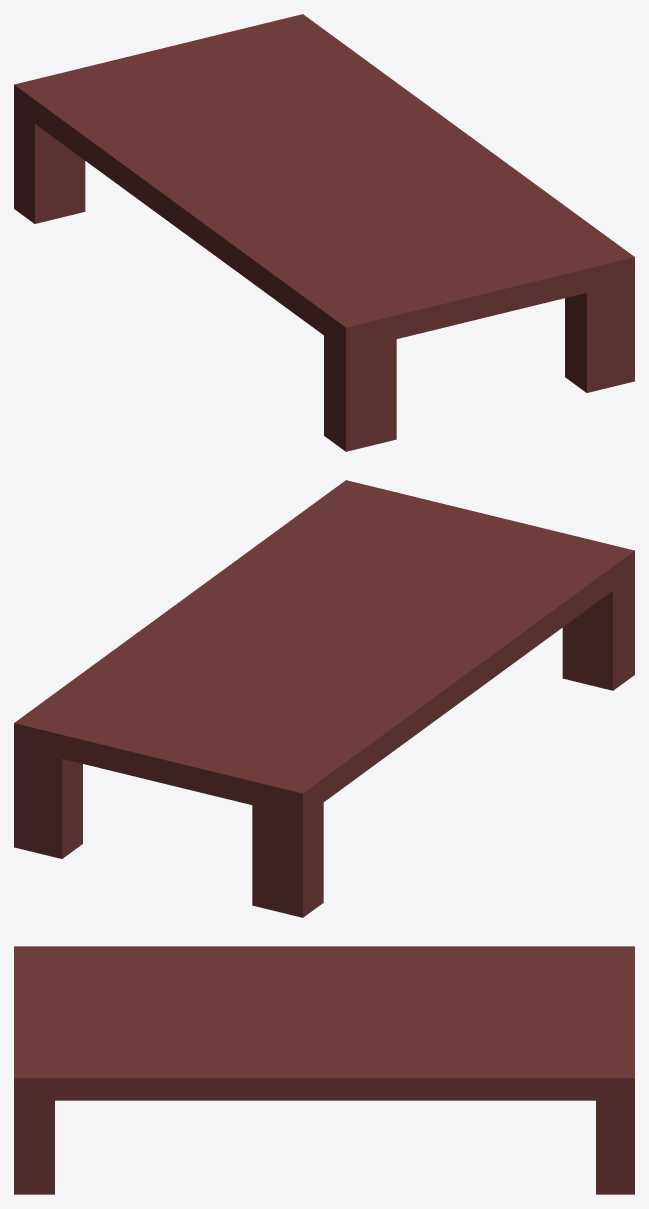
The model's file is table.fbx.
3 views of the same model, one above another, from view 1: azimuth 30°, elevation 25°; view 2: azimuth 150°, elevation 25°; view 3: azimuth 270°, elevation 25° (orthographic). The views are drawn at different scales.
Parts seen in each view (by area): view 1: Cube; view 2: Cube; view 3: Cube.
Boxes of the visible parts, left/top/right/bottom form: Cube: left=14, top=14, right=634, bottom=451; Cube: left=14, top=480, right=634, bottom=917; Cube: left=14, top=946, right=634, bottom=1194.
Size of the model in its own units: 302 by 124 by 601.
